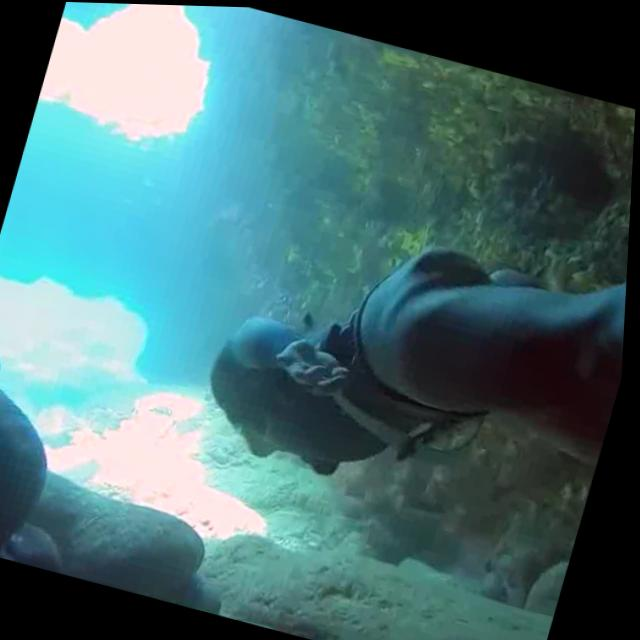human: (180, 124, 635, 550)
